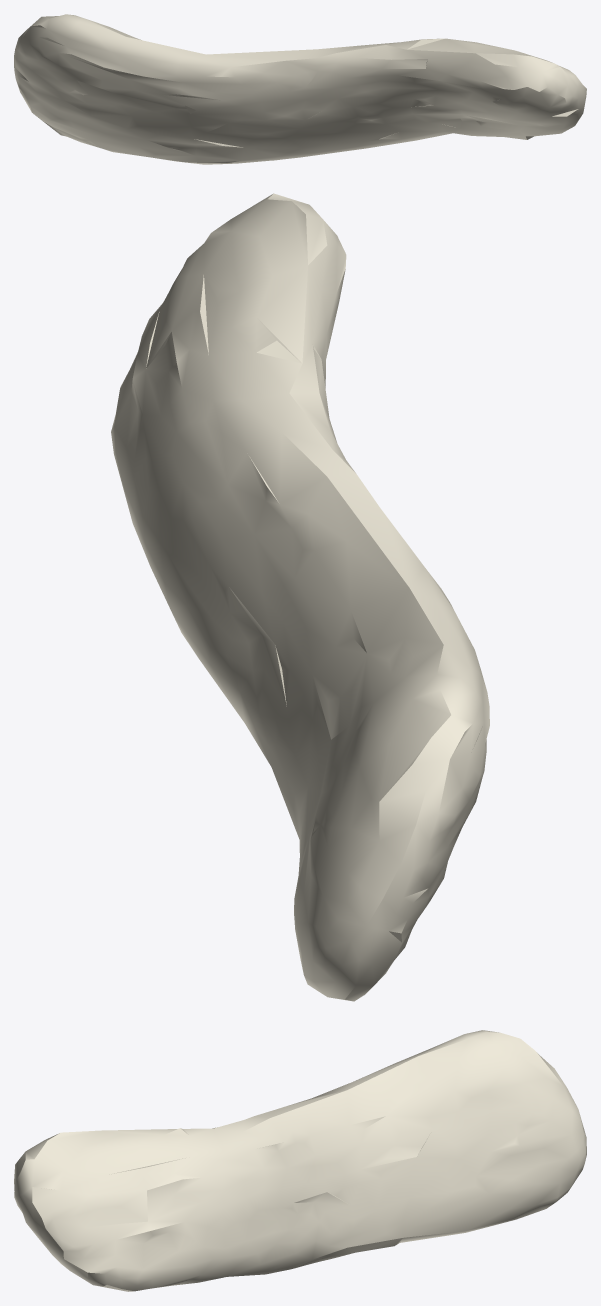
The model's file is fma44085_mm1357m.glb.
3 renders of one model, top to bottom at view 1: azimuth 30°, elevation 25°; view 2: azimuth 150°, elevation 25°; view 3: azimuth 270°, elevation 25°, orthographic. The views are drawn at different scales.
Visible parts, largest first — view 1: FMA44085_MM1357M; view 2: FMA44085_MM1357M; view 3: FMA44085_MM1357M.
Part boxes in pixels (box(x1,y1,x2,y2)): FMA44085_MM1357M: box(14, 14, 586, 164); FMA44085_MM1357M: box(111, 193, 489, 1001); FMA44085_MM1357M: box(14, 1030, 586, 1291).
Bounding box in the file's own units: 0.0226 × 0.011 × 0.0279.
